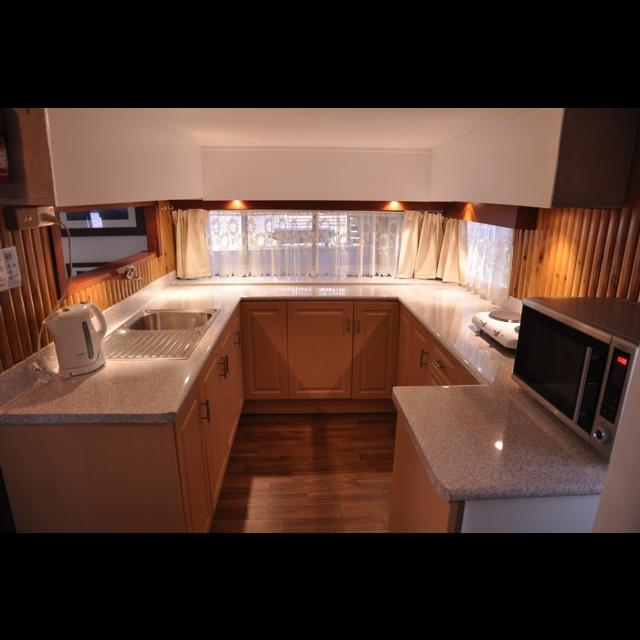Microwave: (512, 296, 640, 464)
